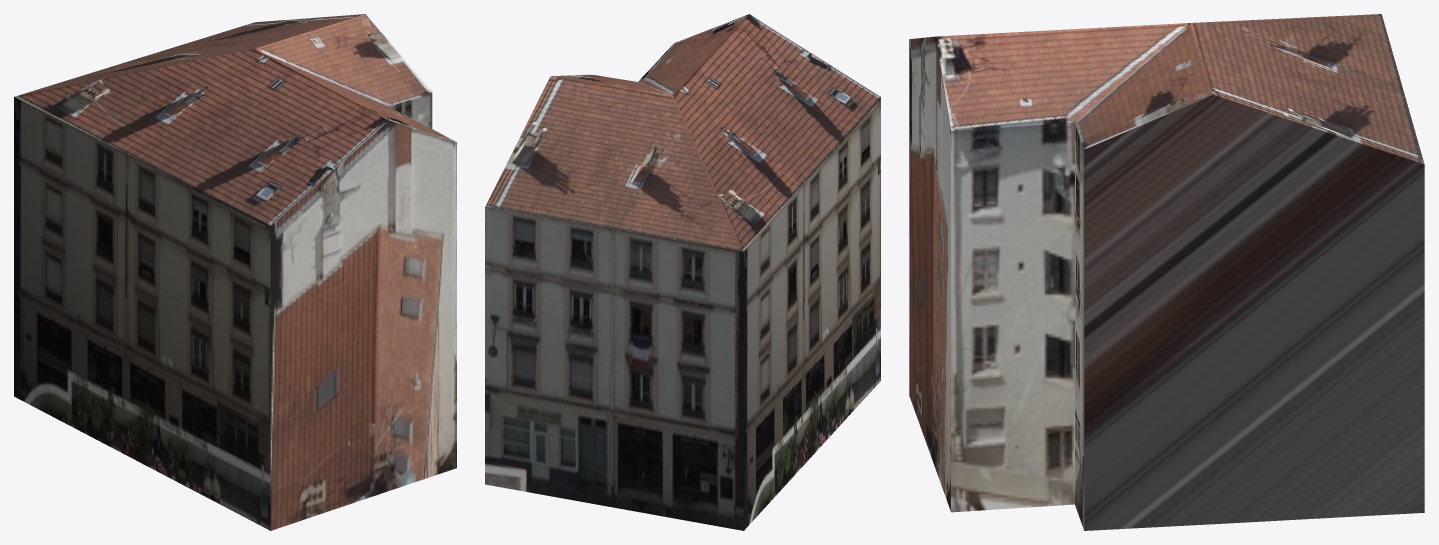
The picture shows the model from 3 angles, left to right: view 1: azimuth 30°, elevation 25°; view 2: azimuth 150°, elevation 25°; view 3: azimuth 270°, elevation 25°; orthographic projection. The views are drawn at different scales.
Parts seen in each view (by area): view 1: Z_UP; view 2: Z_UP; view 3: Z_UP.
Part boxes in pixels (x1=…): Z_UP: x1=14, y1=14, x2=456, y2=530; Z_UP: x1=485, y1=14, x2=880, y2=530; Z_UP: x1=909, y1=14, x2=1424, y2=530.
Bounding box in the file's own units: 15.92 × 19.35 × 20.85.
Materials: 2 (1 with a texture image).
